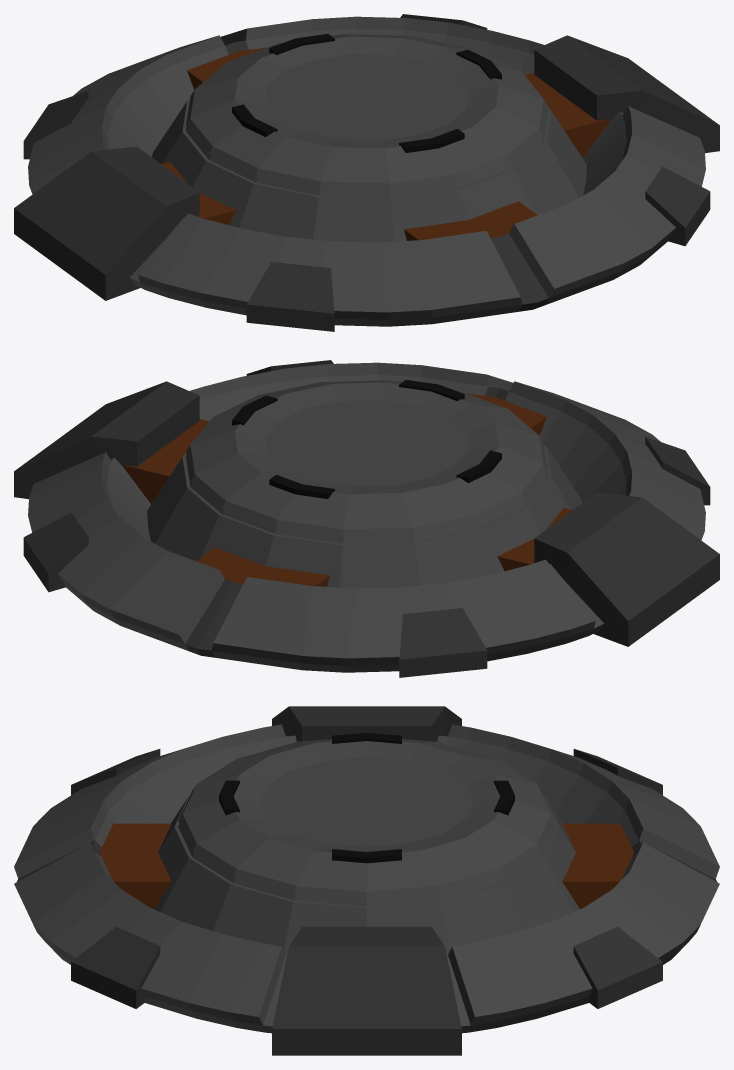
File: Turret_Cannon_Base_Cylinder_005.obj
The picture shows the model from 3 angles, top to bottom: view 1: azimuth 30°, elevation 25°; view 2: azimuth 150°, elevation 25°; view 3: azimuth 270°, elevation 25°; orthographic projection. The views are drawn at different scales.
Parts seen in each view (by area): view 1: Turret_Cannon_Base_Cylinder.005; view 2: Turret_Cannon_Base_Cylinder.005; view 3: Turret_Cannon_Base_Cylinder.005.
Part boxes in pixels (left/top/right/bottom): Turret_Cannon_Base_Cylinder.005: left=14, top=14, right=719, bottom=331; Turret_Cannon_Base_Cylinder.005: left=14, top=360, right=719, bottom=677; Turret_Cannon_Base_Cylinder.005: left=14, top=706, right=719, bottom=1055.
Size of the model in its own units: 1.16 by 0.1832 by 1.11.
